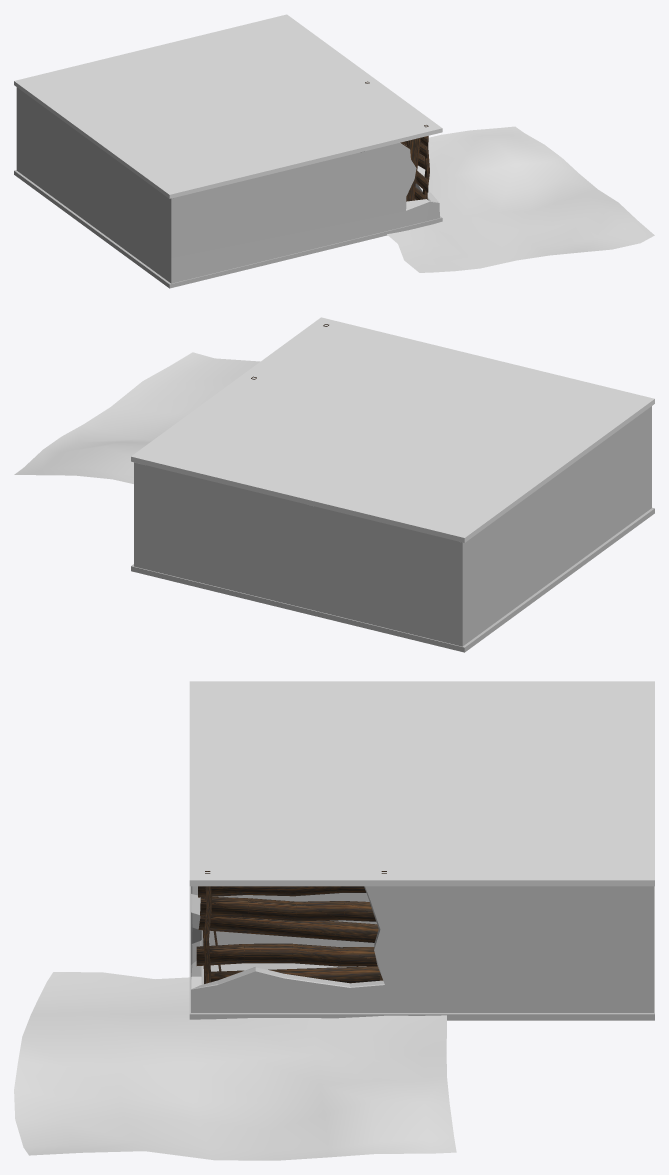
The model's file is Fase 4.fbx.
The picture shows the model from 3 angles, top to bottom: view 1: azimuth 30°, elevation 25°; view 2: azimuth 150°, elevation 25°; view 3: azimuth 270°, elevation 25°; orthographic projection. The views are drawn at different scales.
Visible parts, largest first — view 1: teto, paredes, Plane, chão, madeira 10; view 2: teto, paredes, Plane, chão; view 3: teto, Plane, paredes, chão, madeira 2, madeira 5, madeira 4, madeira 8, madeira 6.
Part boxes in pixels (bbox=[...]): teto: bbox=[14, 14, 442, 198]; paredes: bbox=[16, 87, 439, 283]; Plane: bbox=[387, 126, 654, 272]; chão: bbox=[14, 170, 442, 288]; madeira 10: bbox=[406, 137, 420, 201]; teto: bbox=[131, 317, 654, 542]; paredes: bbox=[134, 406, 651, 646]; Plane: bbox=[14, 352, 260, 483]; chão: bbox=[131, 507, 654, 652]; teto: bbox=[189, 681, 654, 886]; Plane: bbox=[14, 972, 456, 1160]; paredes: bbox=[191, 886, 653, 1012]; chão: bbox=[189, 886, 654, 1020]; madeira 2: bbox=[196, 943, 377, 966]; madeira 5: bbox=[200, 897, 375, 921]; madeira 4: bbox=[198, 916, 378, 942]; madeira 8: bbox=[198, 886, 366, 897]; madeira 6: bbox=[204, 966, 380, 983].
Size of the model in its own units: 2702 by 645 by 2285.
